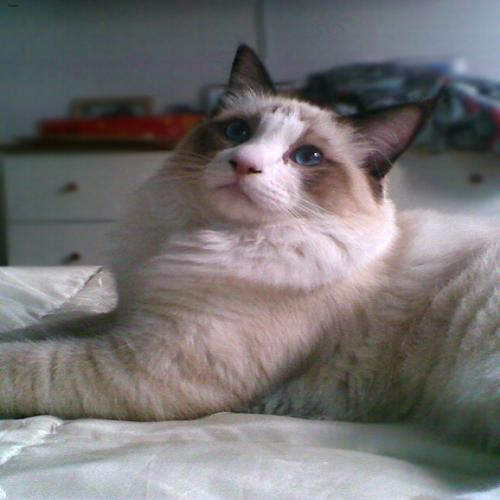ragdoll: (164, 34, 436, 239)
